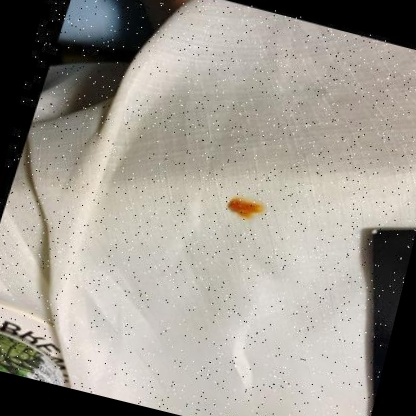kimchi: (223, 192, 272, 227)
